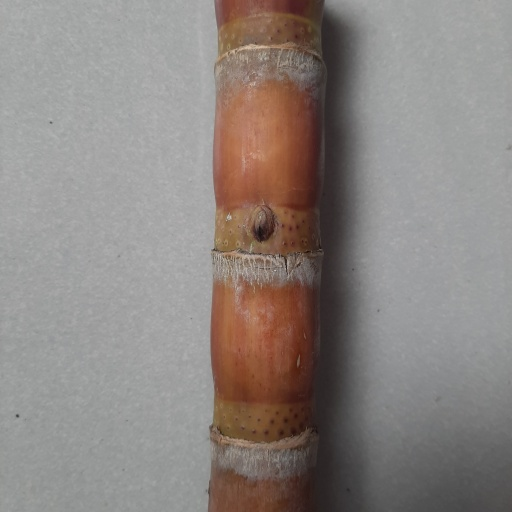Bud: (252, 205, 273, 243)
